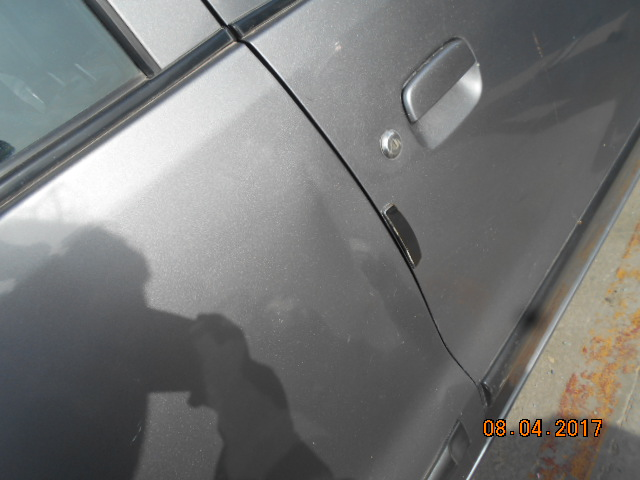Dent: (578, 346, 603, 366)
